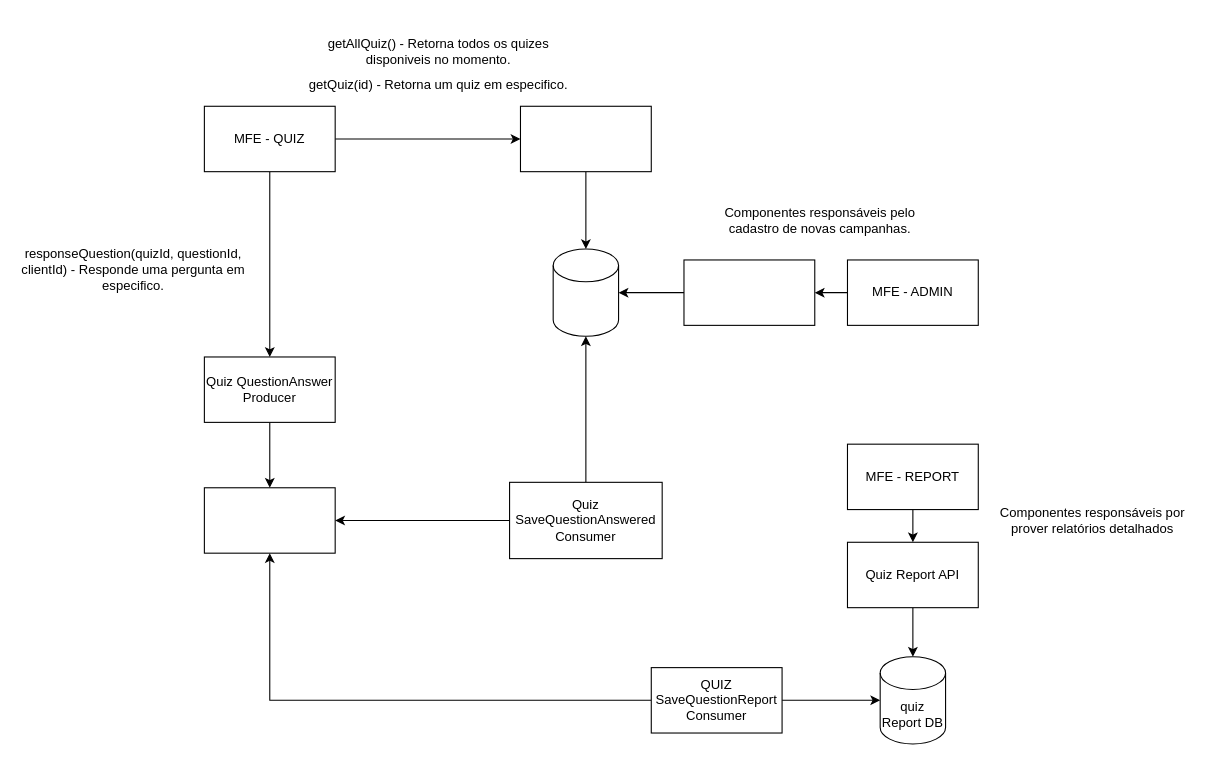
Image size: 1214x763. Some labels were removed from this diagram. Each missing label, with the centre of its shape:
"Apache Kafka" belongs at pixel 269 520.
"Quiz Admin API" belongs at pixel 749 292.
"Quiz CheckQuizzes API" belongs at pixel 585 138.
"quiz DB" belongs at pixel 585 292.
